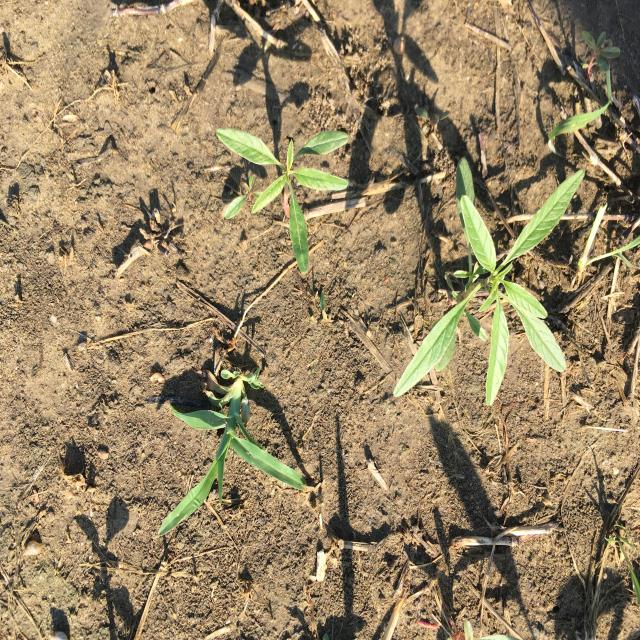Goosegrass: (156, 366, 308, 537)
Waterhemp: (392, 154, 587, 409), (215, 126, 350, 276)
